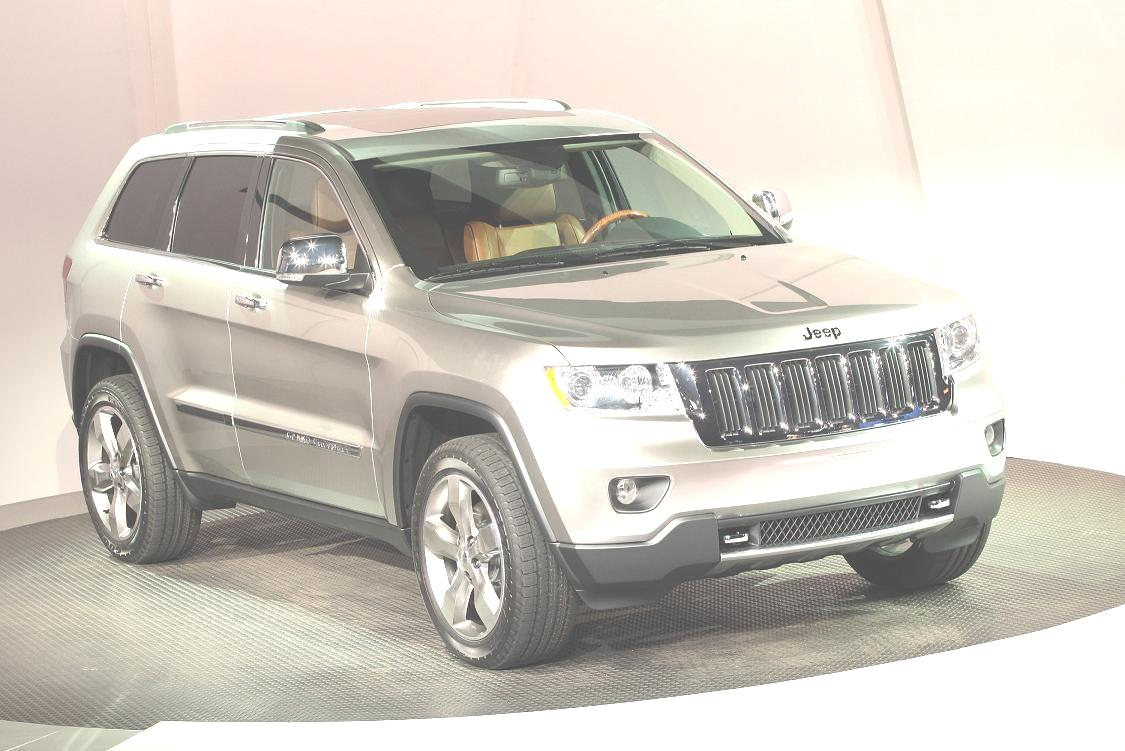jeep: (776, 314, 870, 362)
